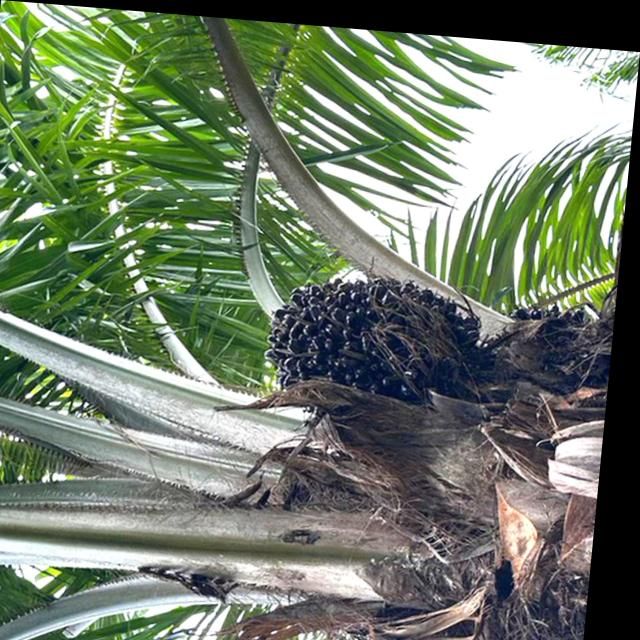unripe: (263, 257, 495, 409)
